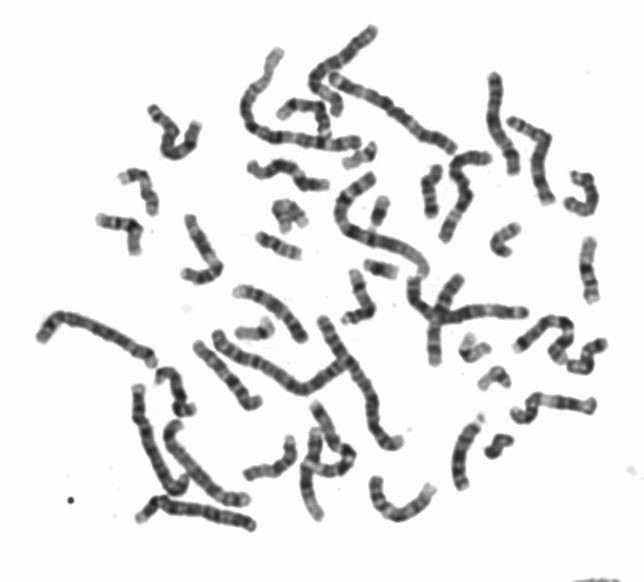chromosomes: (232, 38, 368, 157), (315, 310, 410, 458), (325, 69, 461, 160), (328, 168, 433, 283), (206, 326, 351, 403), (31, 301, 167, 376), (156, 418, 256, 512), (305, 20, 387, 124), (126, 381, 193, 500), (402, 274, 534, 328), (131, 493, 265, 544), (190, 337, 271, 417), (226, 280, 313, 348), (436, 146, 496, 244), (503, 111, 562, 208), (297, 398, 360, 482), (479, 66, 526, 178), (423, 268, 470, 372), (509, 308, 579, 373), (503, 387, 606, 430), (363, 471, 442, 527), (175, 208, 228, 290), (440, 408, 489, 496), (142, 97, 206, 164), (243, 154, 338, 195), (263, 94, 337, 142), (297, 425, 330, 529), (240, 431, 302, 486), (112, 160, 166, 221), (90, 207, 150, 261), (334, 264, 381, 332), (154, 364, 206, 421), (557, 163, 605, 223), (575, 230, 607, 309), (248, 224, 310, 262), (564, 333, 613, 380), (267, 195, 314, 240), (454, 327, 498, 370), (485, 217, 525, 262), (226, 312, 279, 344), (420, 159, 446, 223), (357, 254, 407, 286), (472, 362, 516, 397), (342, 136, 385, 170), (482, 430, 519, 469), (364, 190, 396, 234)
